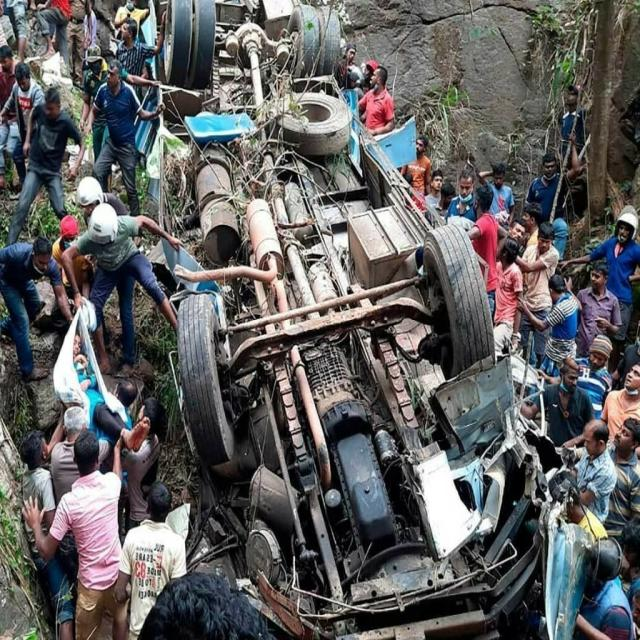accident: (149, 0, 598, 638)
